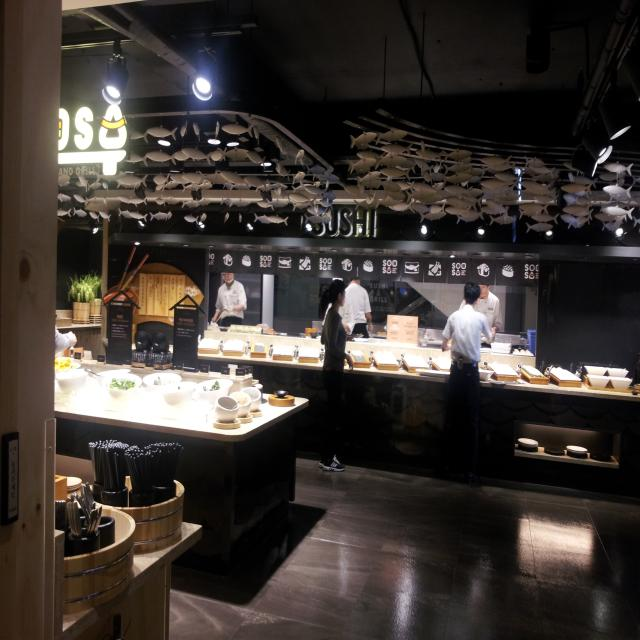body: (438, 280, 489, 490), (317, 279, 357, 473), (321, 279, 354, 373), (457, 283, 503, 349), (341, 270, 374, 338), (211, 272, 248, 326), (56, 311, 76, 385)
